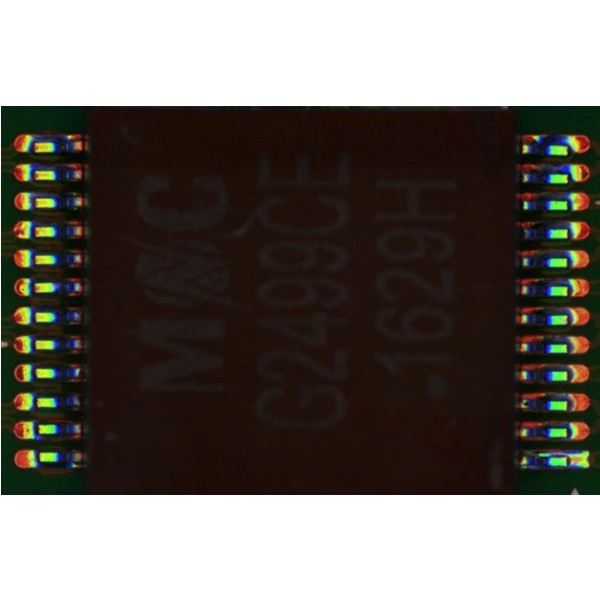Bad_podu: (560, 458, 577, 466)
Bad_qiaojiao: (528, 452, 566, 458)
